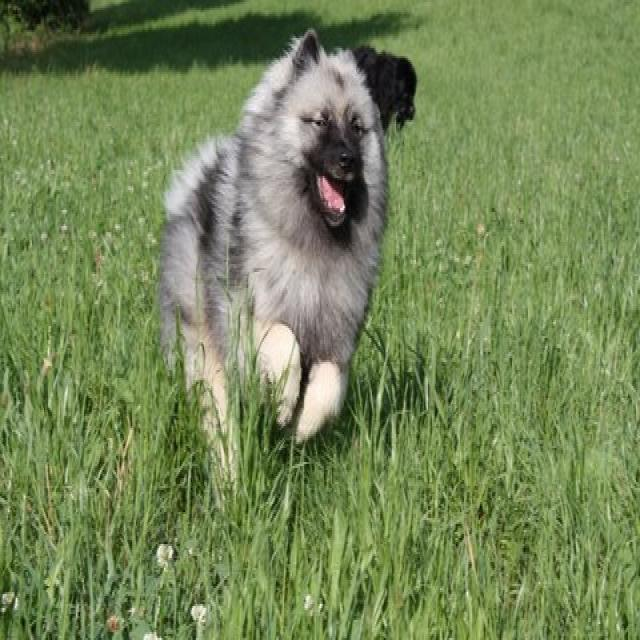dog-keeshond: (151, 14, 427, 510)
